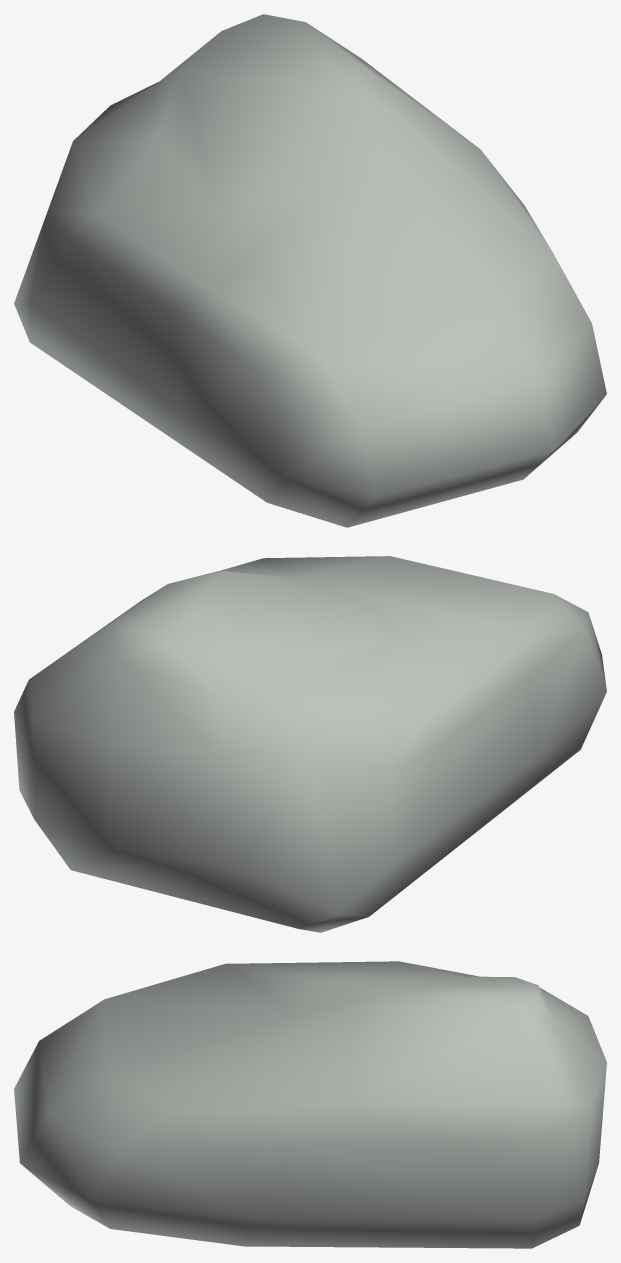
Rendered from piedra madiana2.fbx.
3 renders of one model, top to bottom at view 1: azimuth 30°, elevation 25°; view 2: azimuth 150°, elevation 25°; view 3: azimuth 270°, elevation 25°, orthographic. The views are drawn at different scales.
Parts seen in each view (by area): view 1: Cube.001; view 2: Cube.001; view 3: Cube.001.
Part boxes in pixels (x1,y1,x2,y2): Cube.001: [14, 14, 606, 527]; Cube.001: [14, 556, 606, 932]; Cube.001: [14, 961, 606, 1248].
Size of the model in its own units: 119 by 83.52 by 187.
